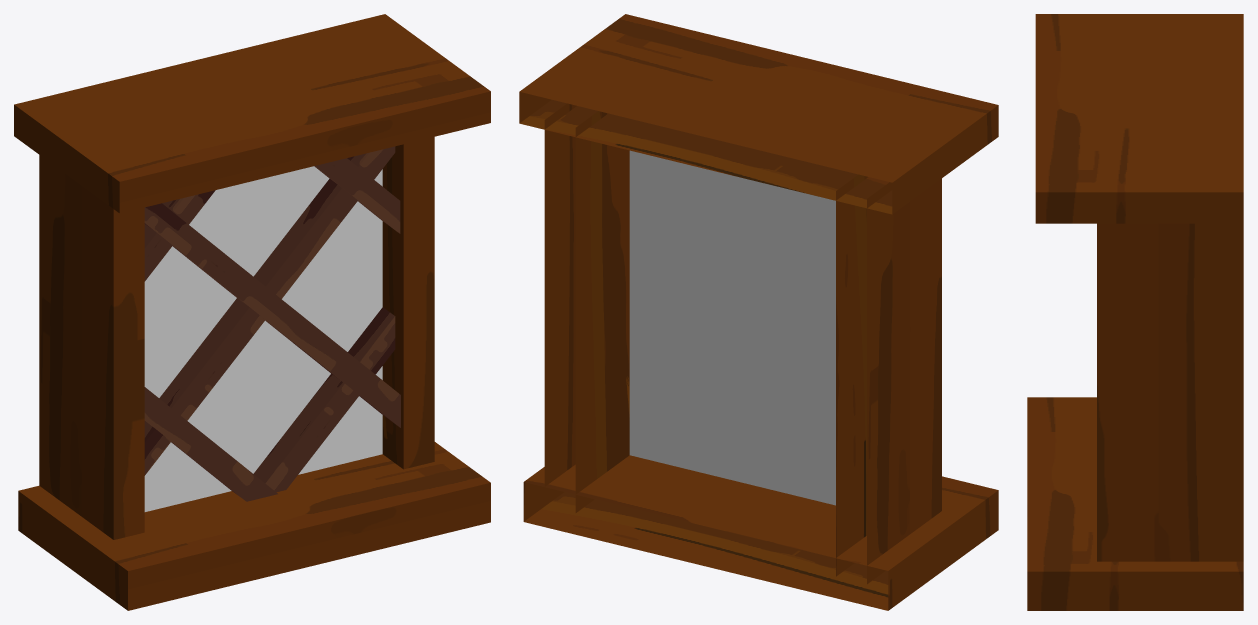
Rendered from SM_BLD_window_v08_04.fbx.
3 views of the same model, side by side, from view 1: azimuth 30°, elevation 25°; view 2: azimuth 150°, elevation 25°; view 3: azimuth 270°, elevation 25° (orthographic). The views are drawn at different scales.
Parts seen in each view (by area): view 1: SM_BLD_window_v08_04; view 2: SM_BLD_window_v08_04; view 3: SM_BLD_window_v08_04.
Part boxes in pixels (left/top/right/bottom): SM_BLD_window_v08_04: left=14, top=14, right=490, bottom=610; SM_BLD_window_v08_04: left=519, top=14, right=998, bottom=610; SM_BLD_window_v08_04: left=1027, top=14, right=1243, bottom=610.
Bounding box in the file's own units: 78.82 × 86.65 × 40.41.
